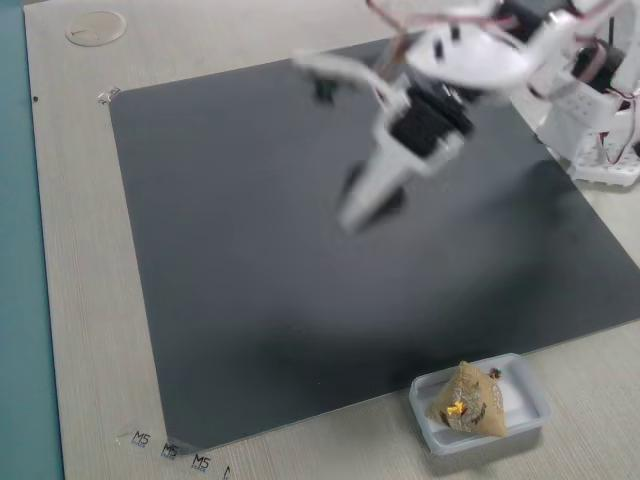objects: (314, 59, 466, 241)
